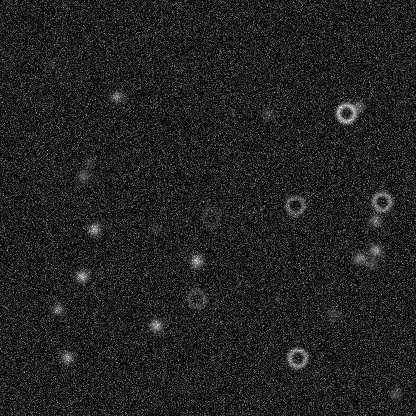Ring: (285, 345, 309, 369), (184, 286, 208, 310), (199, 205, 223, 229), (283, 193, 307, 217), (334, 100, 358, 124), (369, 189, 393, 213)
Spot: (324, 306, 340, 322), (148, 317, 164, 333), (366, 212, 382, 228), (147, 219, 163, 235), (259, 106, 275, 122), (386, 386, 402, 402), (74, 268, 90, 284), (75, 167, 91, 183), (81, 153, 97, 169), (188, 252, 204, 268), (108, 88, 124, 104), (367, 242, 383, 258), (86, 221, 102, 237), (363, 255, 379, 271), (49, 300, 65, 316), (351, 249, 367, 265), (43, 55, 59, 71), (59, 349, 75, 365), (350, 97, 366, 113)
